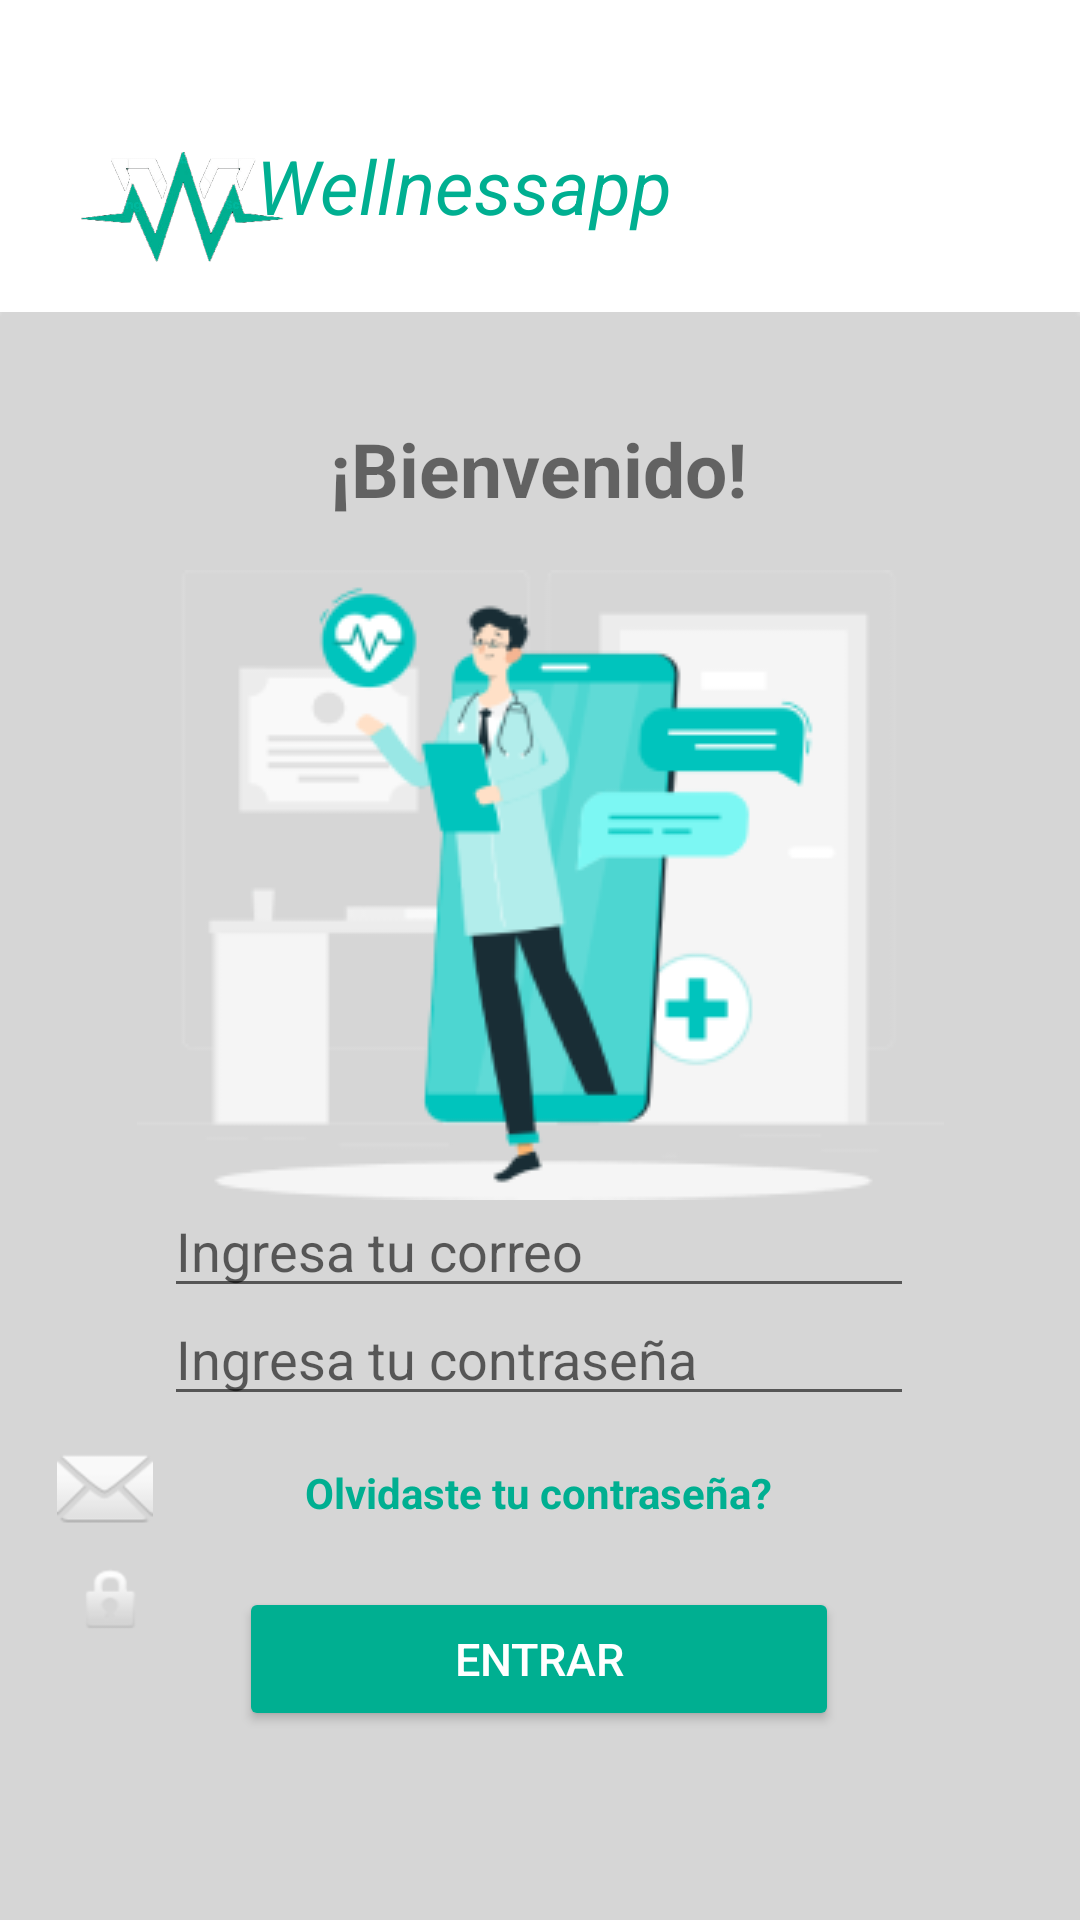

Point at icon controls on the screen. Image size 1080*1920, points as (x,y).
email: (105,1489)
